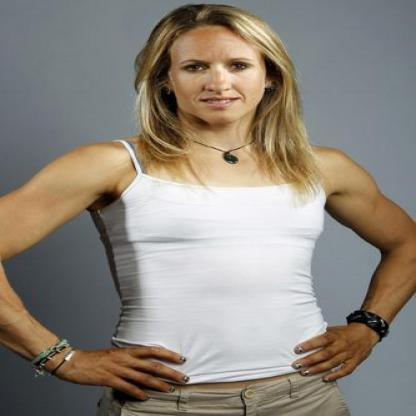long-hair: (121, 124, 314, 164)
